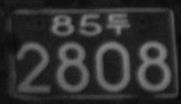0: (94, 40, 131, 94)
2: (16, 40, 51, 94)
5: (78, 13, 102, 37)
8: (136, 40, 172, 92), (56, 40, 90, 93), (51, 14, 75, 37)
두: (105, 12, 130, 35)
